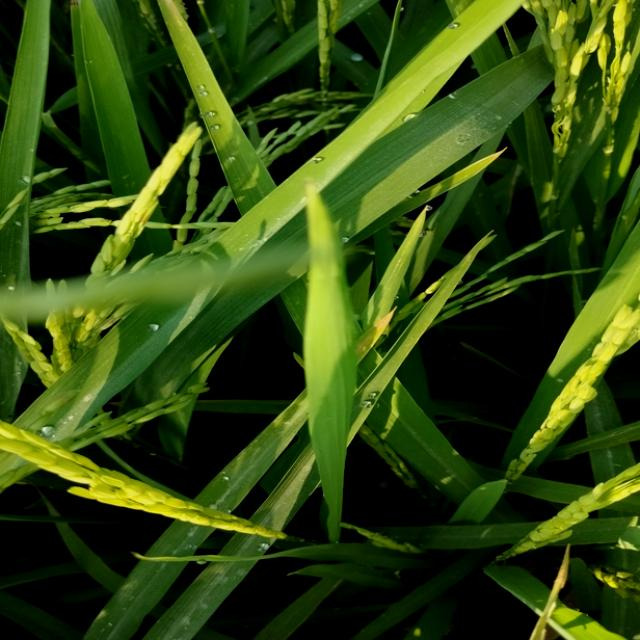Wereng: (356, 304, 398, 362)
